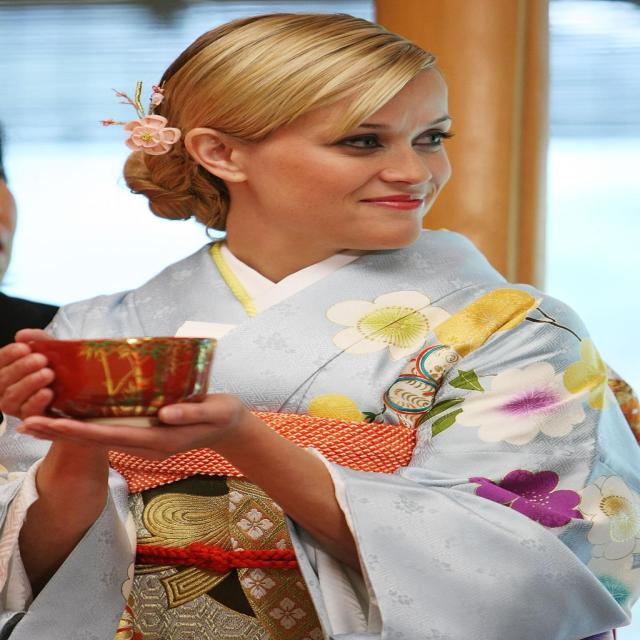Face: (264, 85, 455, 249)
